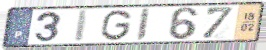3: (32, 10, 64, 44)
6: (167, 6, 201, 42)
7: (204, 6, 235, 40)
G: (99, 9, 134, 42)
I: (73, 9, 91, 43), (135, 7, 152, 42)
